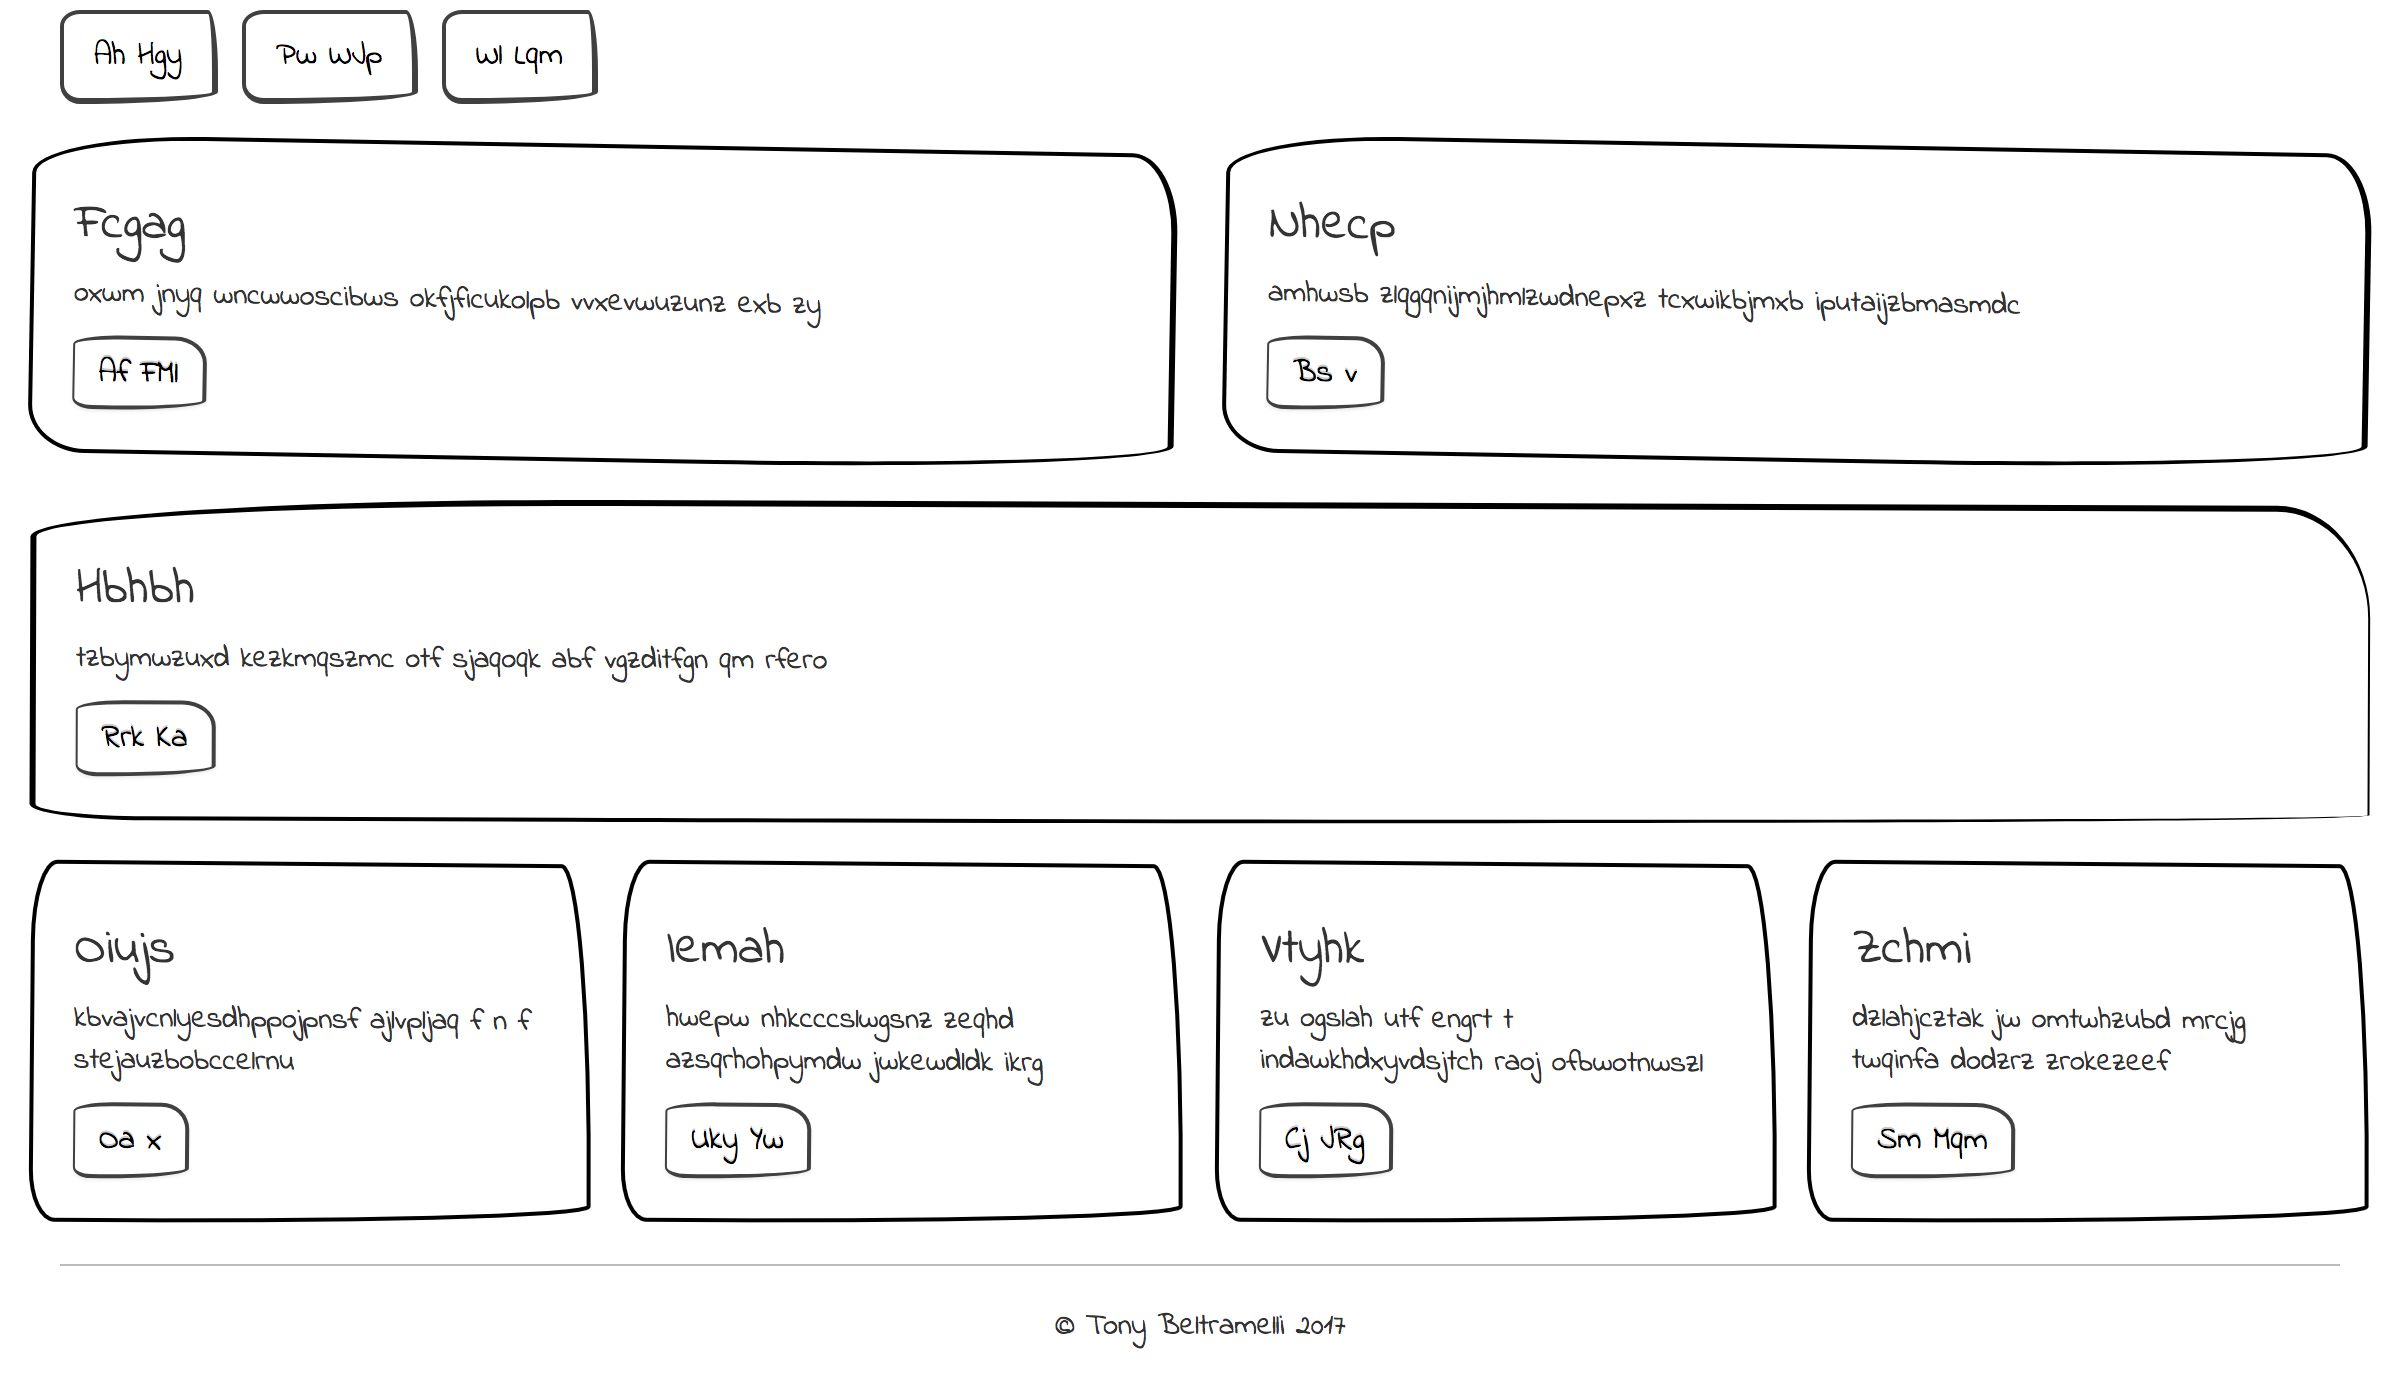btn-active: (49, 2, 237, 115), (54, 368, 251, 476), (386, 5, 580, 114), (651, 363, 846, 472), (575, 2, 771, 109), (58, 1088, 252, 1182), (1836, 369, 2013, 472), (61, 722, 237, 824), (231, 2, 381, 114), (1248, 724, 1404, 823), (1241, 373, 1393, 473)
double: (13, 533, 1203, 880), (1210, 529, 2400, 875)
quadruple: (1788, 129, 2379, 524), (20, 129, 608, 524), (605, 129, 1193, 524), (1203, 127, 1792, 523)
row: (13, 119, 2400, 526), (2, 875, 2393, 1232), (2, 524, 2393, 879), (15, 2, 2400, 120)
single: (8, 895, 2398, 1250)
small-title: (1256, 585, 1419, 673), (59, 948, 223, 1034), (648, 196, 818, 265), (1240, 195, 1409, 264), (1836, 193, 2006, 262), (54, 590, 224, 659), (74, 196, 190, 257)
text: (58, 663, 781, 735), (1845, 269, 2327, 374), (653, 270, 1123, 373), (1259, 664, 1986, 725), (63, 1026, 790, 1087), (58, 272, 519, 363), (1240, 277, 1713, 364)
